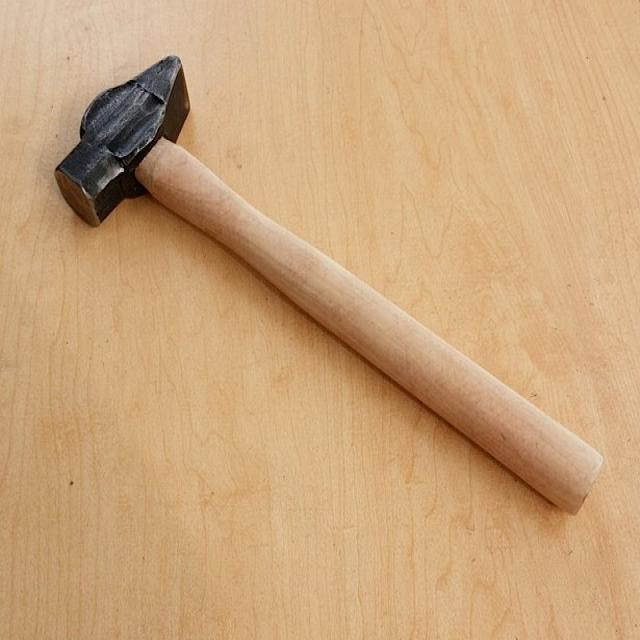hammer: (51, 48, 606, 519)
